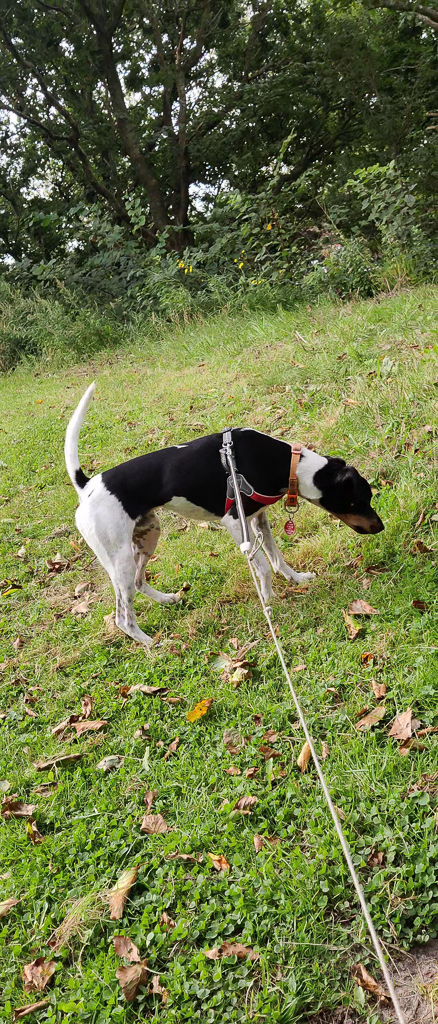Dog: (52, 363, 396, 658)
